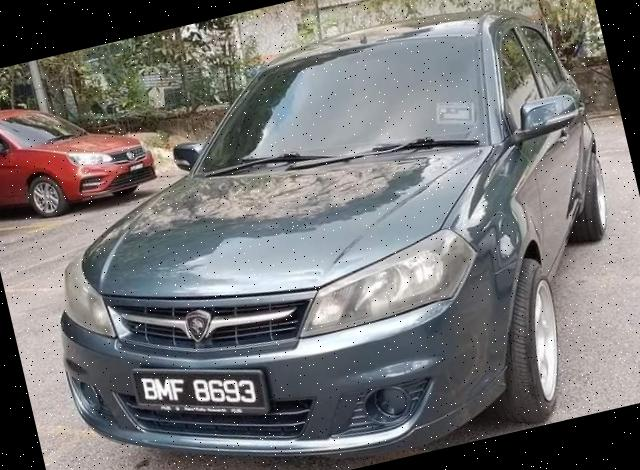License_Plate: (126, 343, 266, 439)
car: (1, 1, 640, 470)
